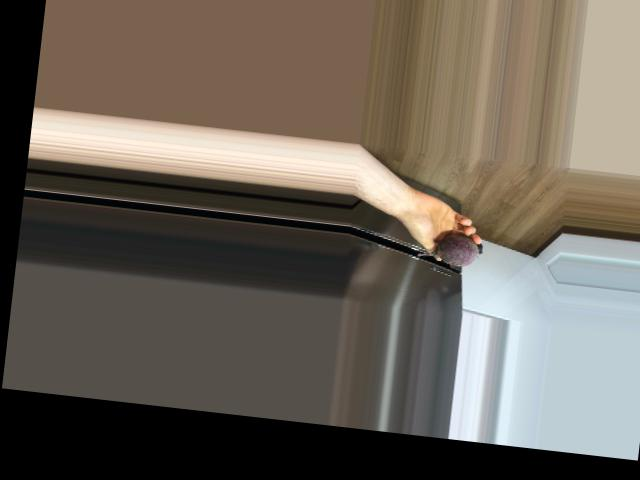beet: (418, 230, 484, 268)
